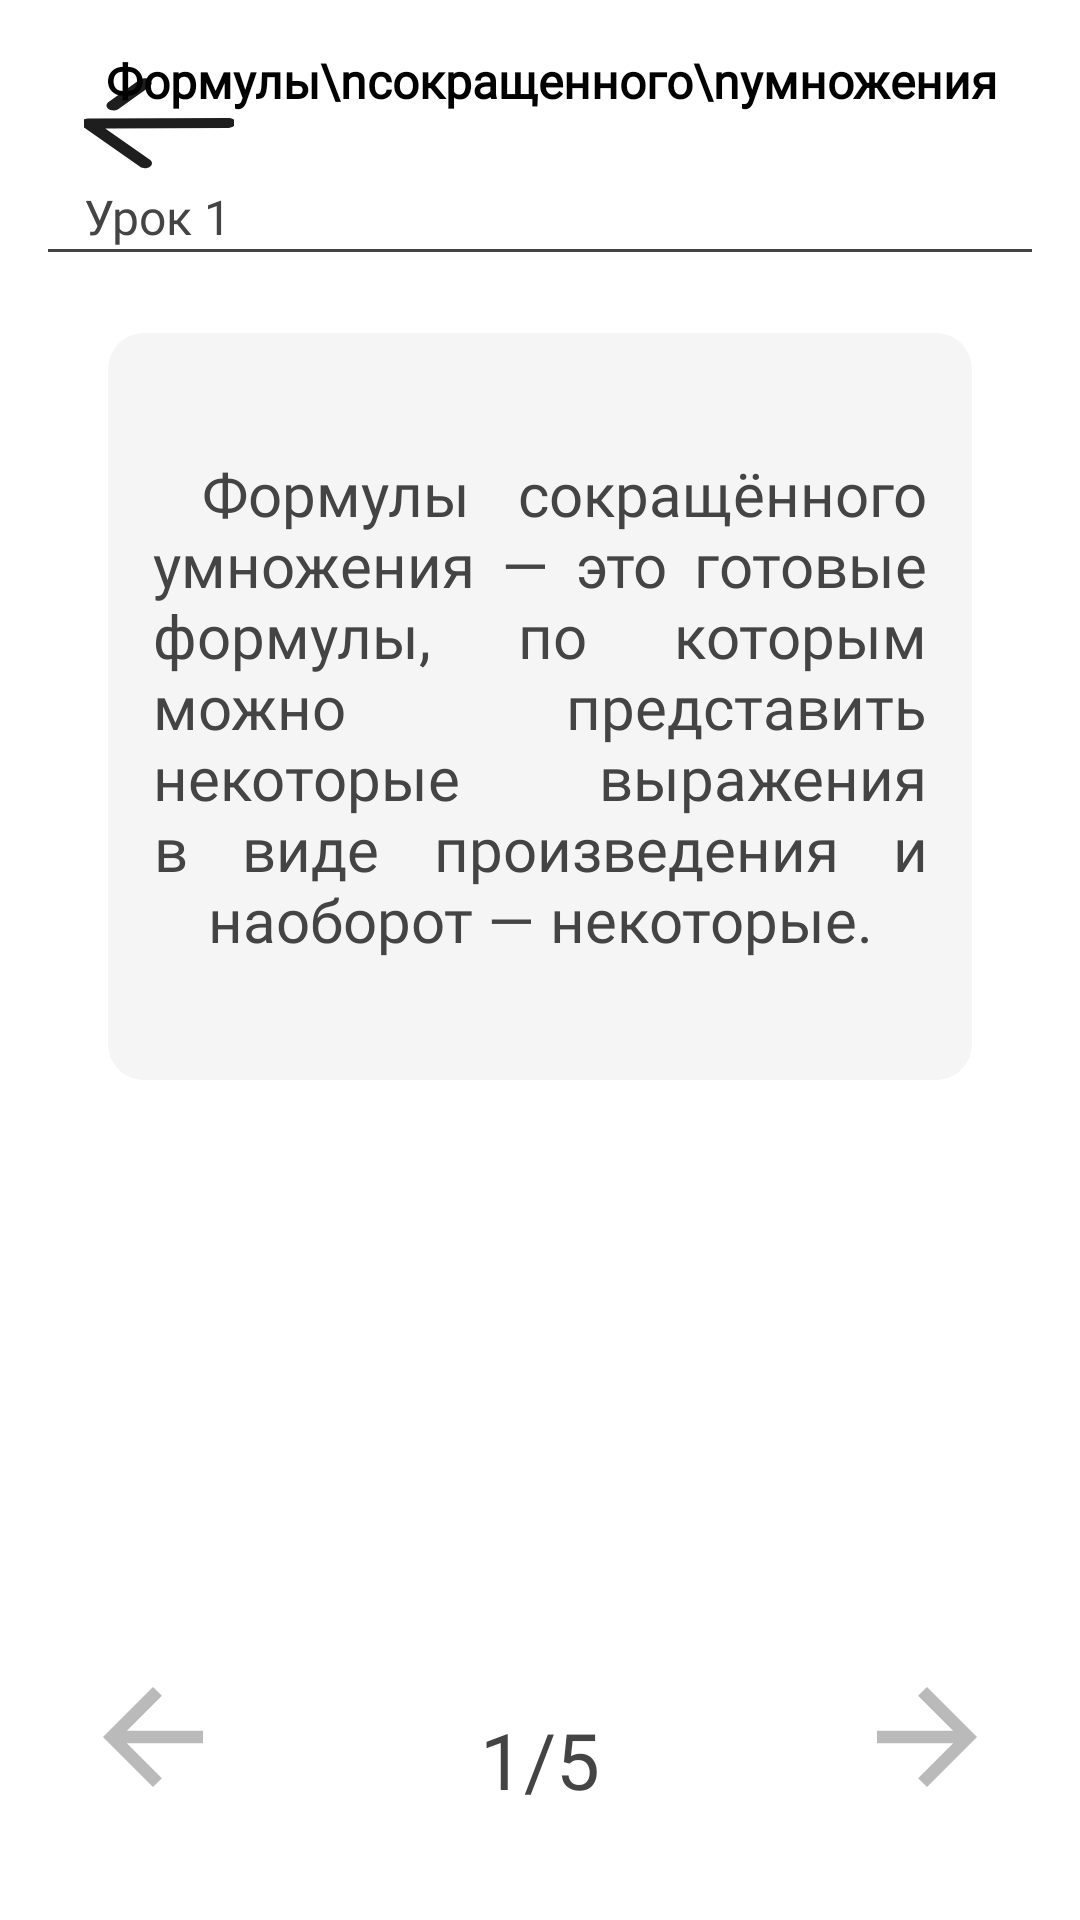

Named icons in this screenshot (1080x1920) and their bounding boxes, [x1,y1,x2,y2]:
class back: [103,1687,203,1787]
class forward: [877,1687,977,1787]
